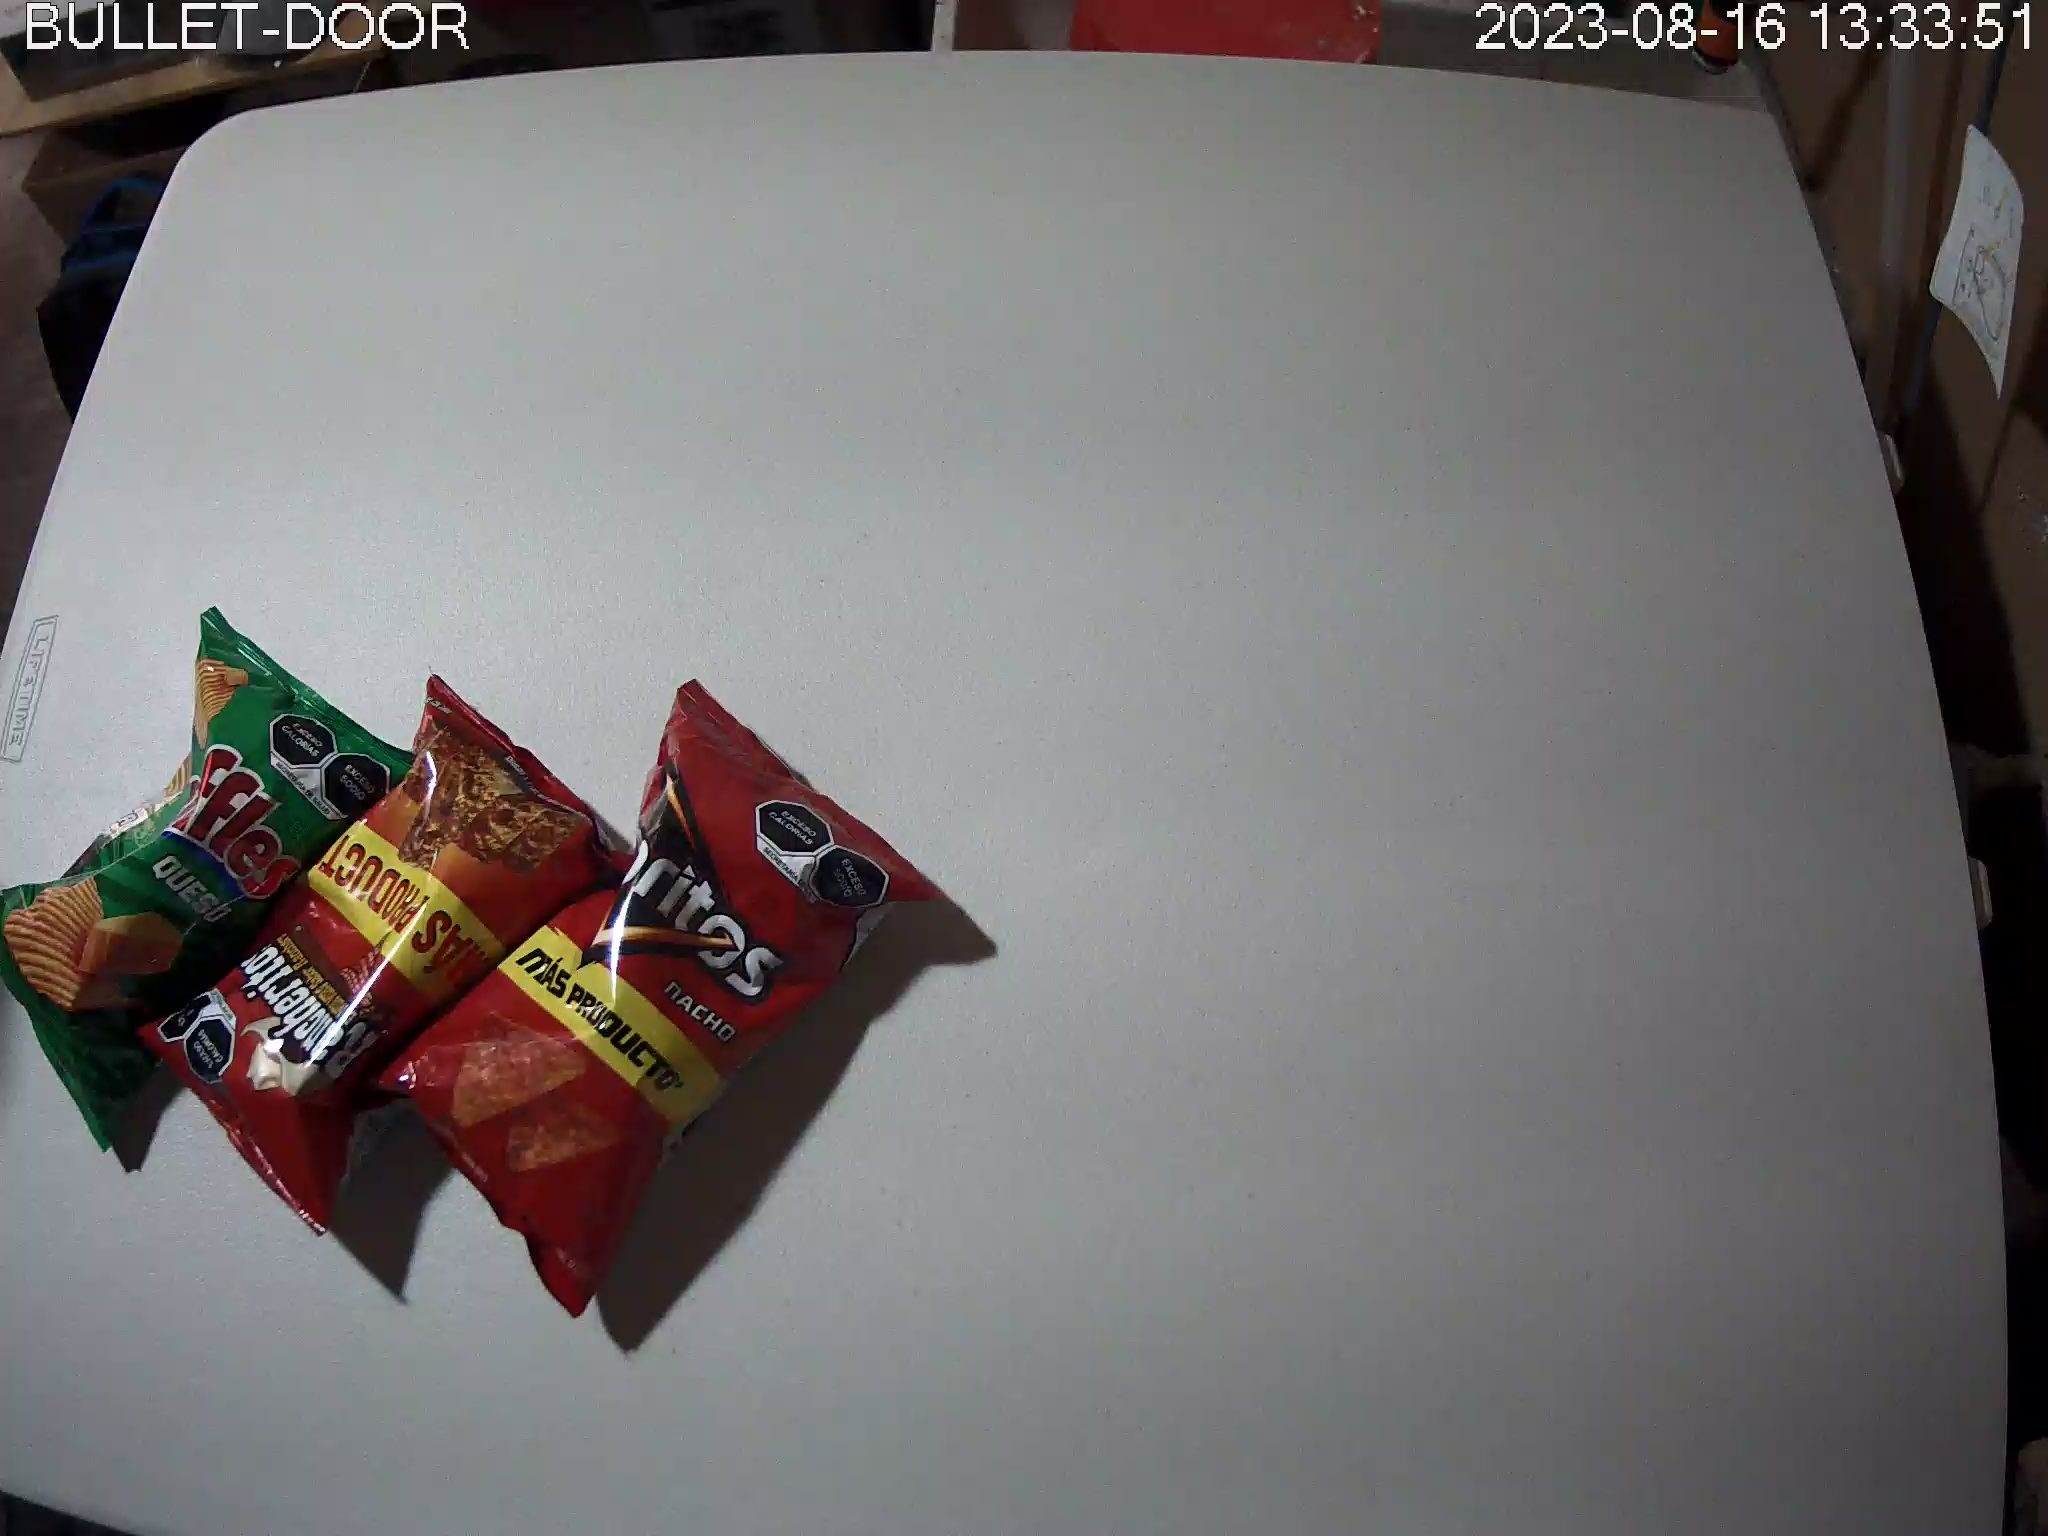DoritosN_61_F: (376, 679, 947, 1318)
Rancheritos_58_F: (145, 671, 647, 1239)
RufflesQ_48_F: (8, 603, 427, 1157)
